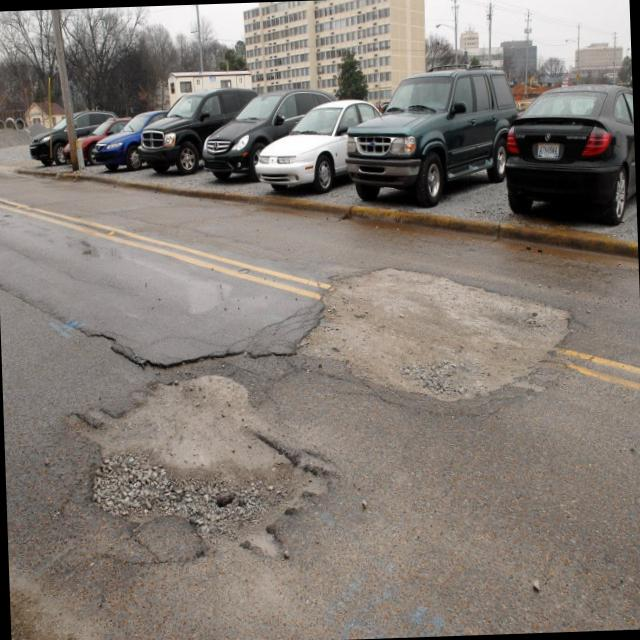Potholes: (52, 338, 334, 571), (293, 239, 589, 422)
